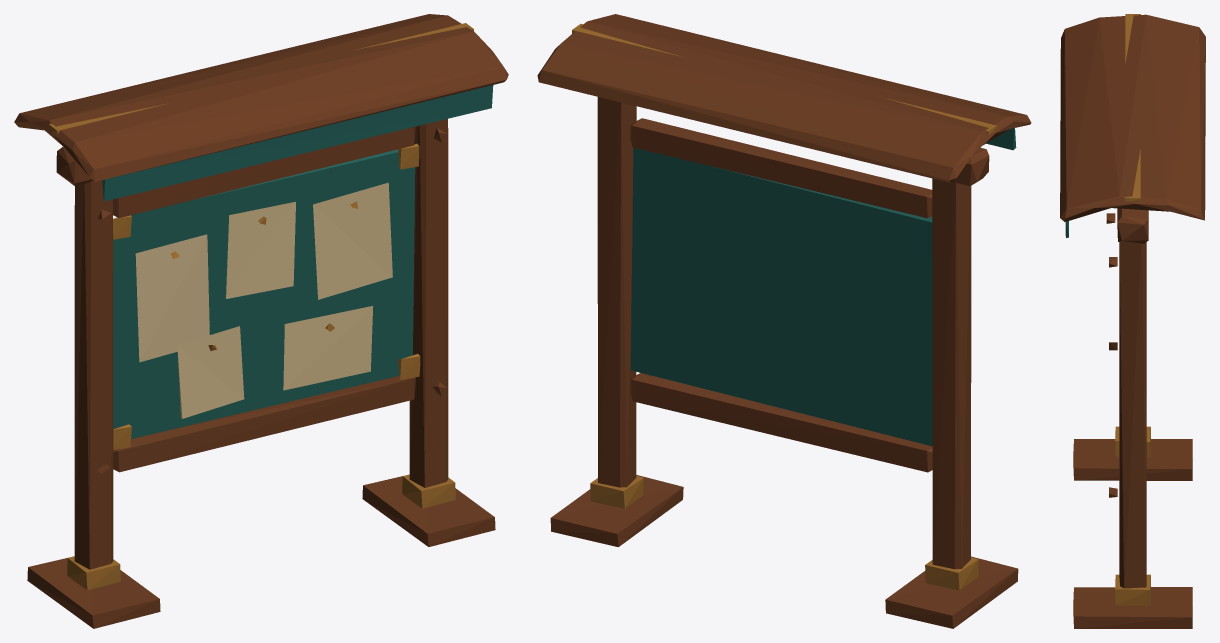
File: quest_board_lod1.obj
3 renders of one model, left to right at view 1: azimuth 30°, elevation 25°; view 2: azimuth 150°, elevation 25°; view 3: azimuth 270°, elevation 25°, orthographic. The views are drawn at different scales.
Parts seen in each view (by area): view 1: quest_board_lod1; view 2: quest_board_lod1; view 3: quest_board_lod1.
Boxes of the visible parts, bbox=[...] form: quest_board_lod1: bbox=[14, 14, 508, 628]; quest_board_lod1: bbox=[537, 14, 1031, 628]; quest_board_lod1: bbox=[1060, 14, 1205, 628].
Bounding box in the file's own units: 2.01 × 2.19 × 0.6661.
